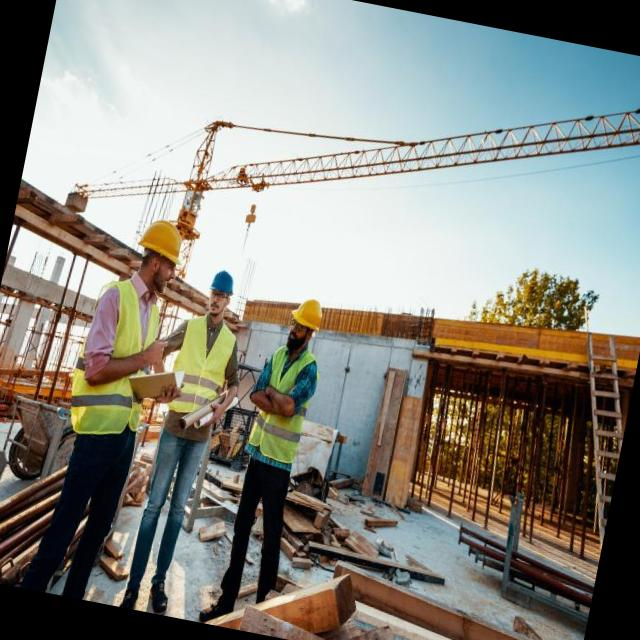Helmet: (134, 212, 190, 267), (289, 294, 329, 334), (208, 268, 238, 297)
Vest: (76, 275, 171, 440), (170, 312, 242, 421), (250, 346, 312, 466)
